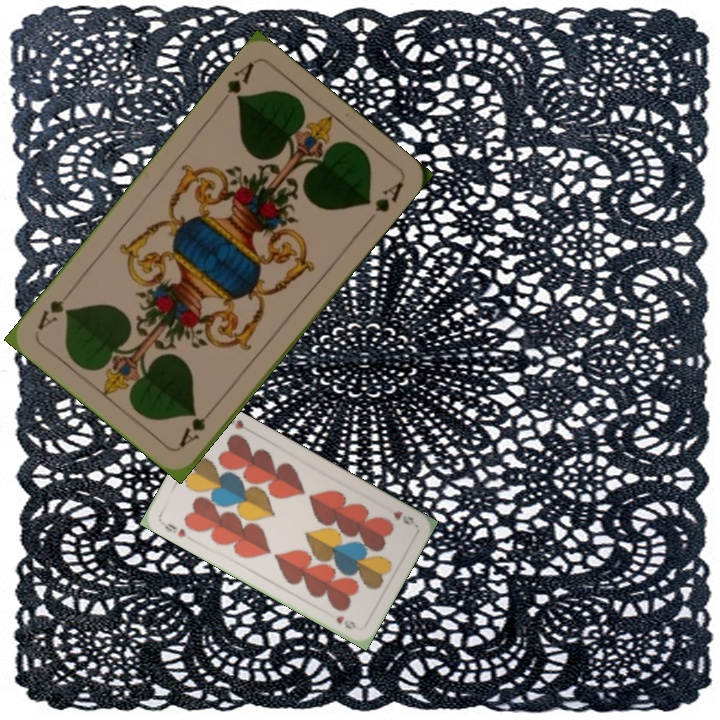GA: (175, 401, 218, 450), (223, 57, 257, 105)
H9: (160, 519, 189, 540), (389, 507, 417, 528)
